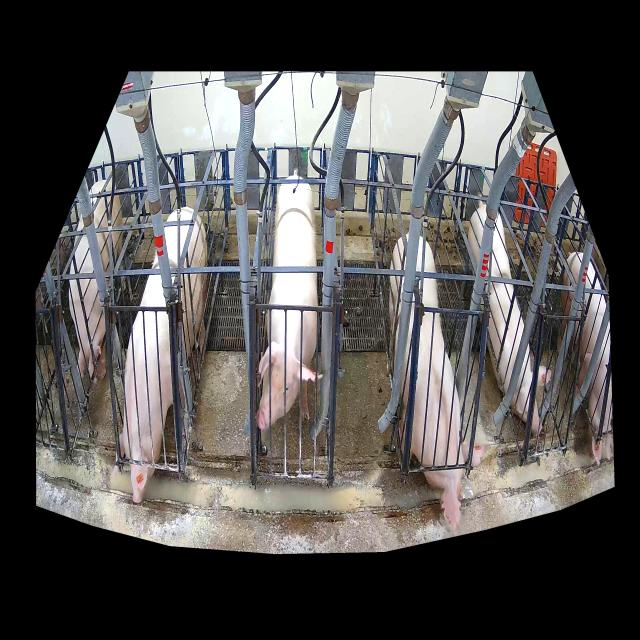pig: (389, 233, 486, 531), (113, 208, 208, 503), (468, 205, 551, 437), (256, 183, 317, 430), (67, 181, 123, 388), (559, 252, 612, 465)
